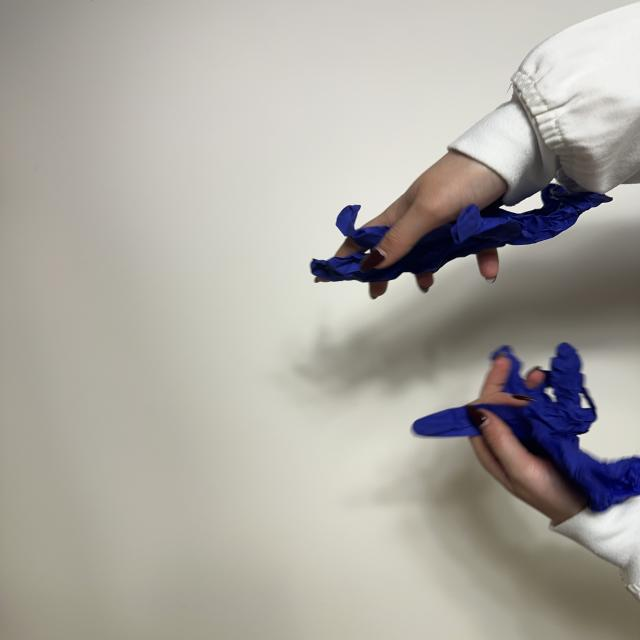glove_not_fitted: (311, 152, 611, 296), (413, 343, 640, 525)
